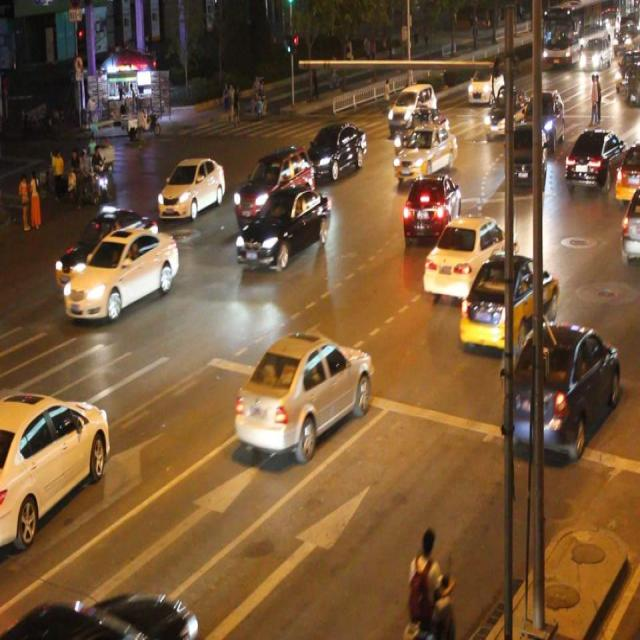car: (234, 331, 371, 458), (502, 322, 617, 454), (0, 390, 110, 524), (64, 224, 179, 320), (459, 253, 556, 348), (236, 184, 331, 269), (421, 211, 514, 297), (56, 210, 158, 288), (234, 147, 314, 224), (400, 170, 460, 248), (157, 158, 225, 220), (392, 122, 457, 180), (303, 122, 367, 180), (564, 127, 621, 189), (394, 107, 449, 160), (503, 120, 544, 184), (614, 139, 640, 201), (618, 189, 640, 260)
